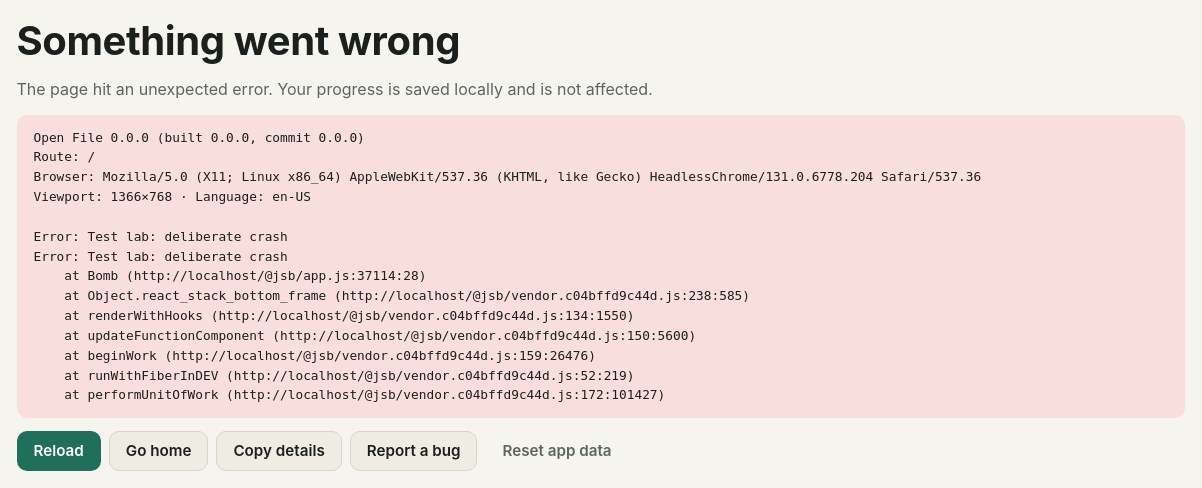
Test: ErrorBoundary › shows the crash page with the details a report needs
Expected: the element with test id "crash-page" shows "Something went wrong", [16,16,460,65]
Expected: the element with test id "crash-page" shows "Error: Test lab: deliberate crash", [34,130,981,402]
Click the button "Copy details": (279, 451) [216,431,342,471]
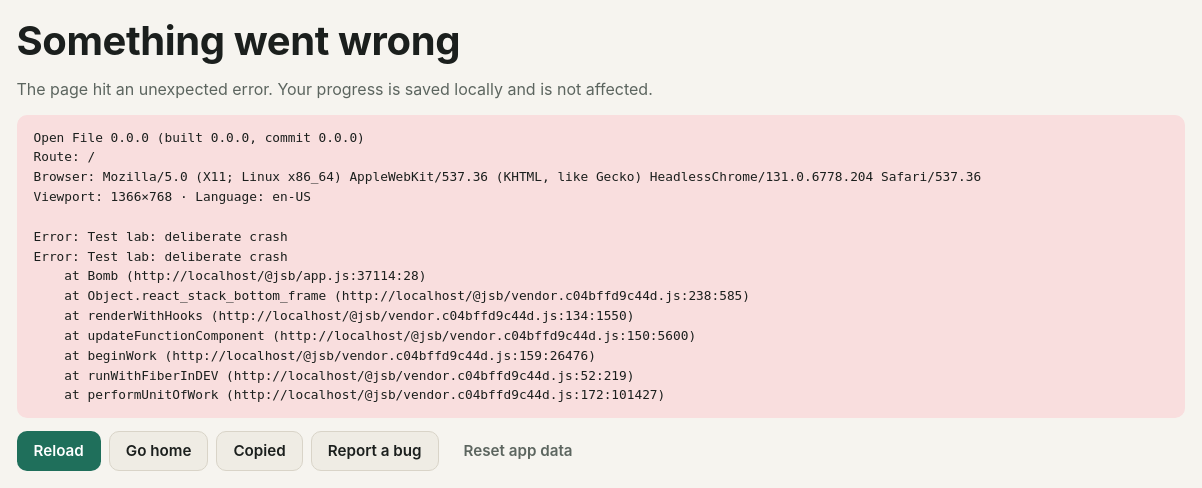
Expected: the text "Test lab: deliberate crash" is shown, [34,130,981,402]
Result: the button "Copied" is shown at [216,431,303,471]
